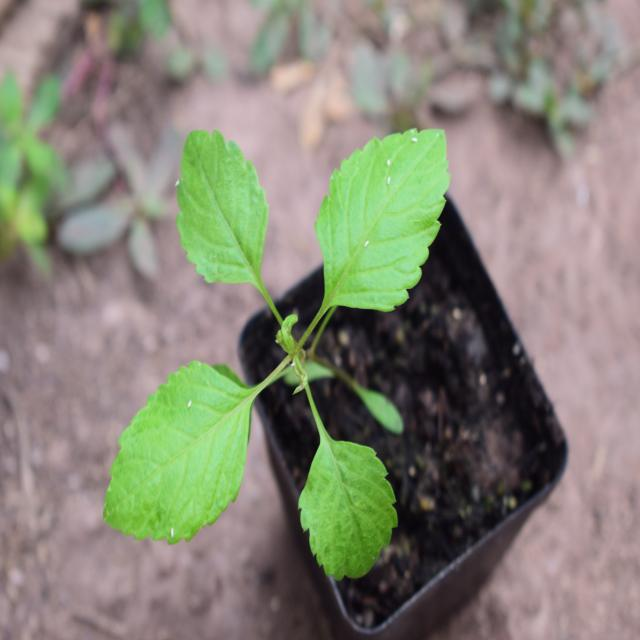Bidens pilosa: (106, 121, 451, 574)
